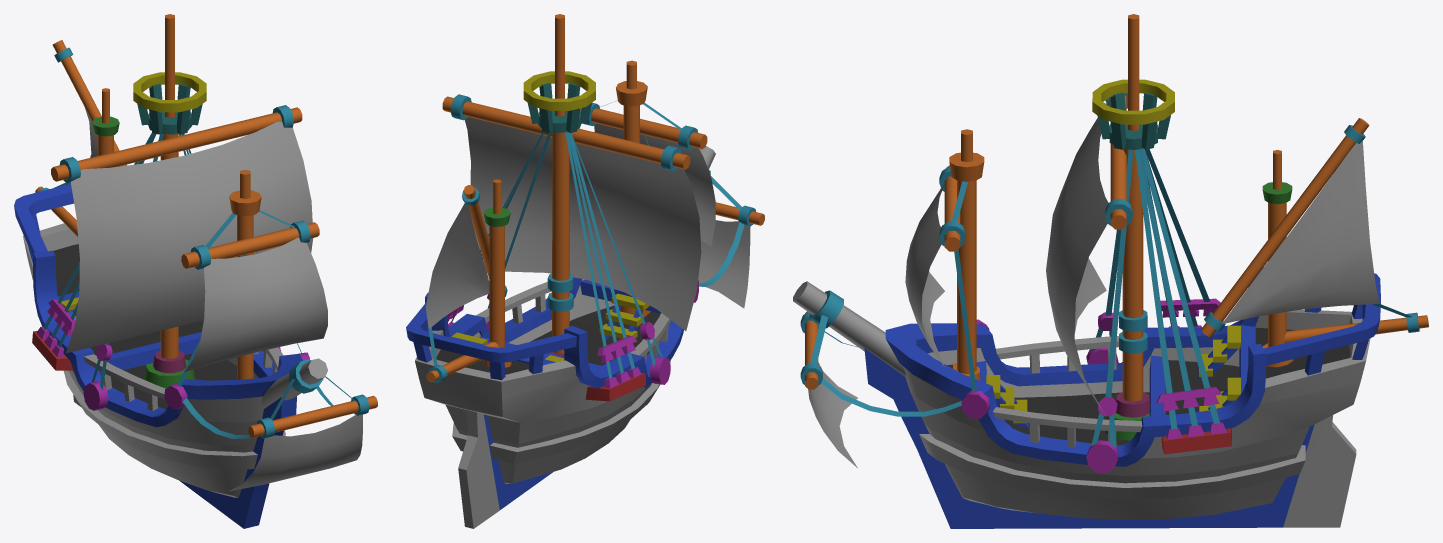
File: Galleon_mm.fbx
3 views of the same model, side by side, from view 1: azimuth 30°, elevation 25°; view 2: azimuth 150°, elevation 25°; view 3: azimuth 270°, elevation 25° (orthographic). The views are drawn at different scales.
Visible parts, largest first — view 1: Galleon, Sails, Upgrade_02, Upgrade_01; view 2: Galleon, Sails, Rudder, Upgrade_02, Upgrade_01; view 3: Galleon, Sails, Upgrade_02, Rudder, Upgrade_01.
Boxes of the visible parts, x1,y1,x2,y2 form: Galleon: (14, 14, 377, 528); Sails: (66, 108, 362, 491); Upgrade_02: (63, 370, 285, 469); Upgrade_01: (84, 347, 283, 410); Galleon: (406, 14, 764, 509); Sails: (425, 117, 750, 330); Rudder: (458, 409, 499, 528); Upgrade_02: (452, 359, 671, 463); Upgrade_01: (476, 282, 670, 364); Galleon: (793, 14, 1428, 528); Sails: (808, 99, 1379, 468); Upgrade_02: (919, 434, 1305, 499); Rudder: (1283, 415, 1356, 527); Upgrade_01: (993, 336, 1142, 448).
Size of the model in its own units: 433 by 764 by 866.
